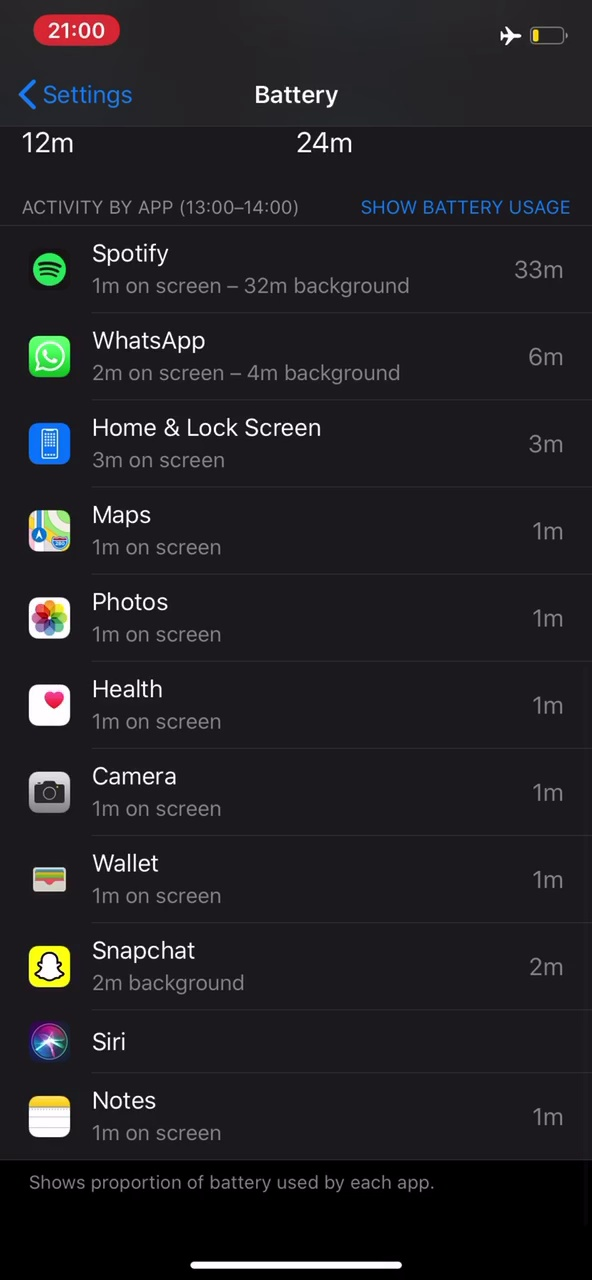activity: (7, 193, 304, 220)
app: (11, 232, 588, 303), (5, 321, 582, 392), (5, 402, 582, 473), (5, 495, 582, 566), (1, 587, 578, 658), (4, 757, 581, 828), (4, 938, 581, 1009), (8, 1081, 585, 1152), (1, 669, 577, 740), (1, 844, 577, 915)
